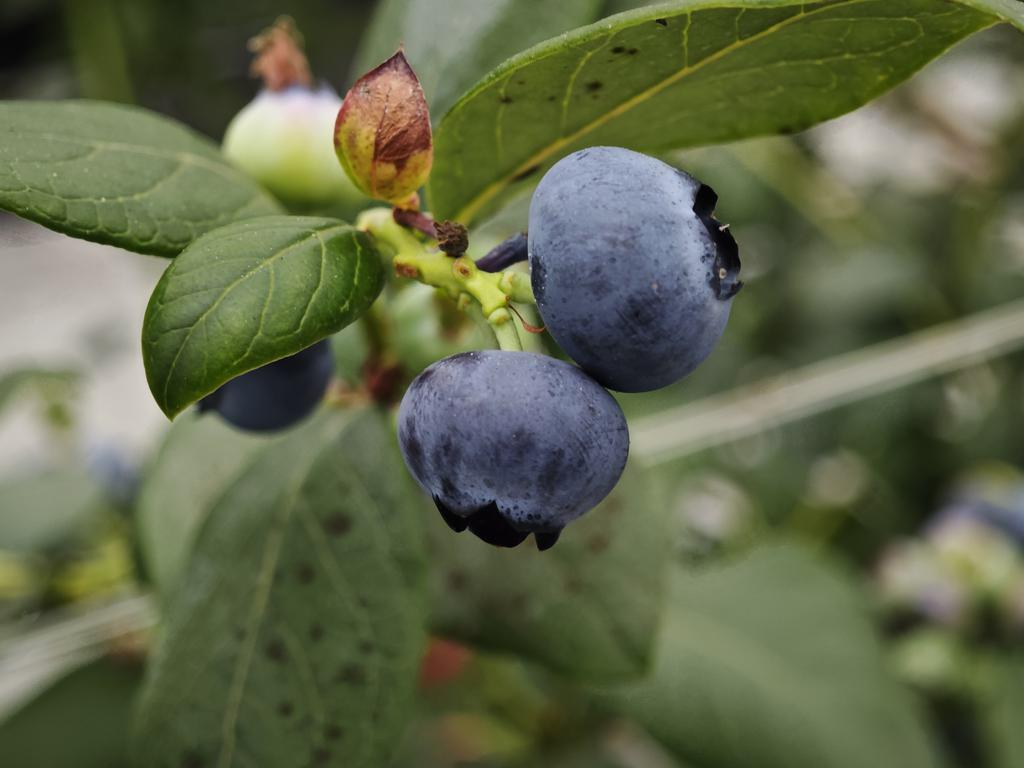RipeBlueBerry: (529, 142, 739, 397), (399, 344, 630, 550)
